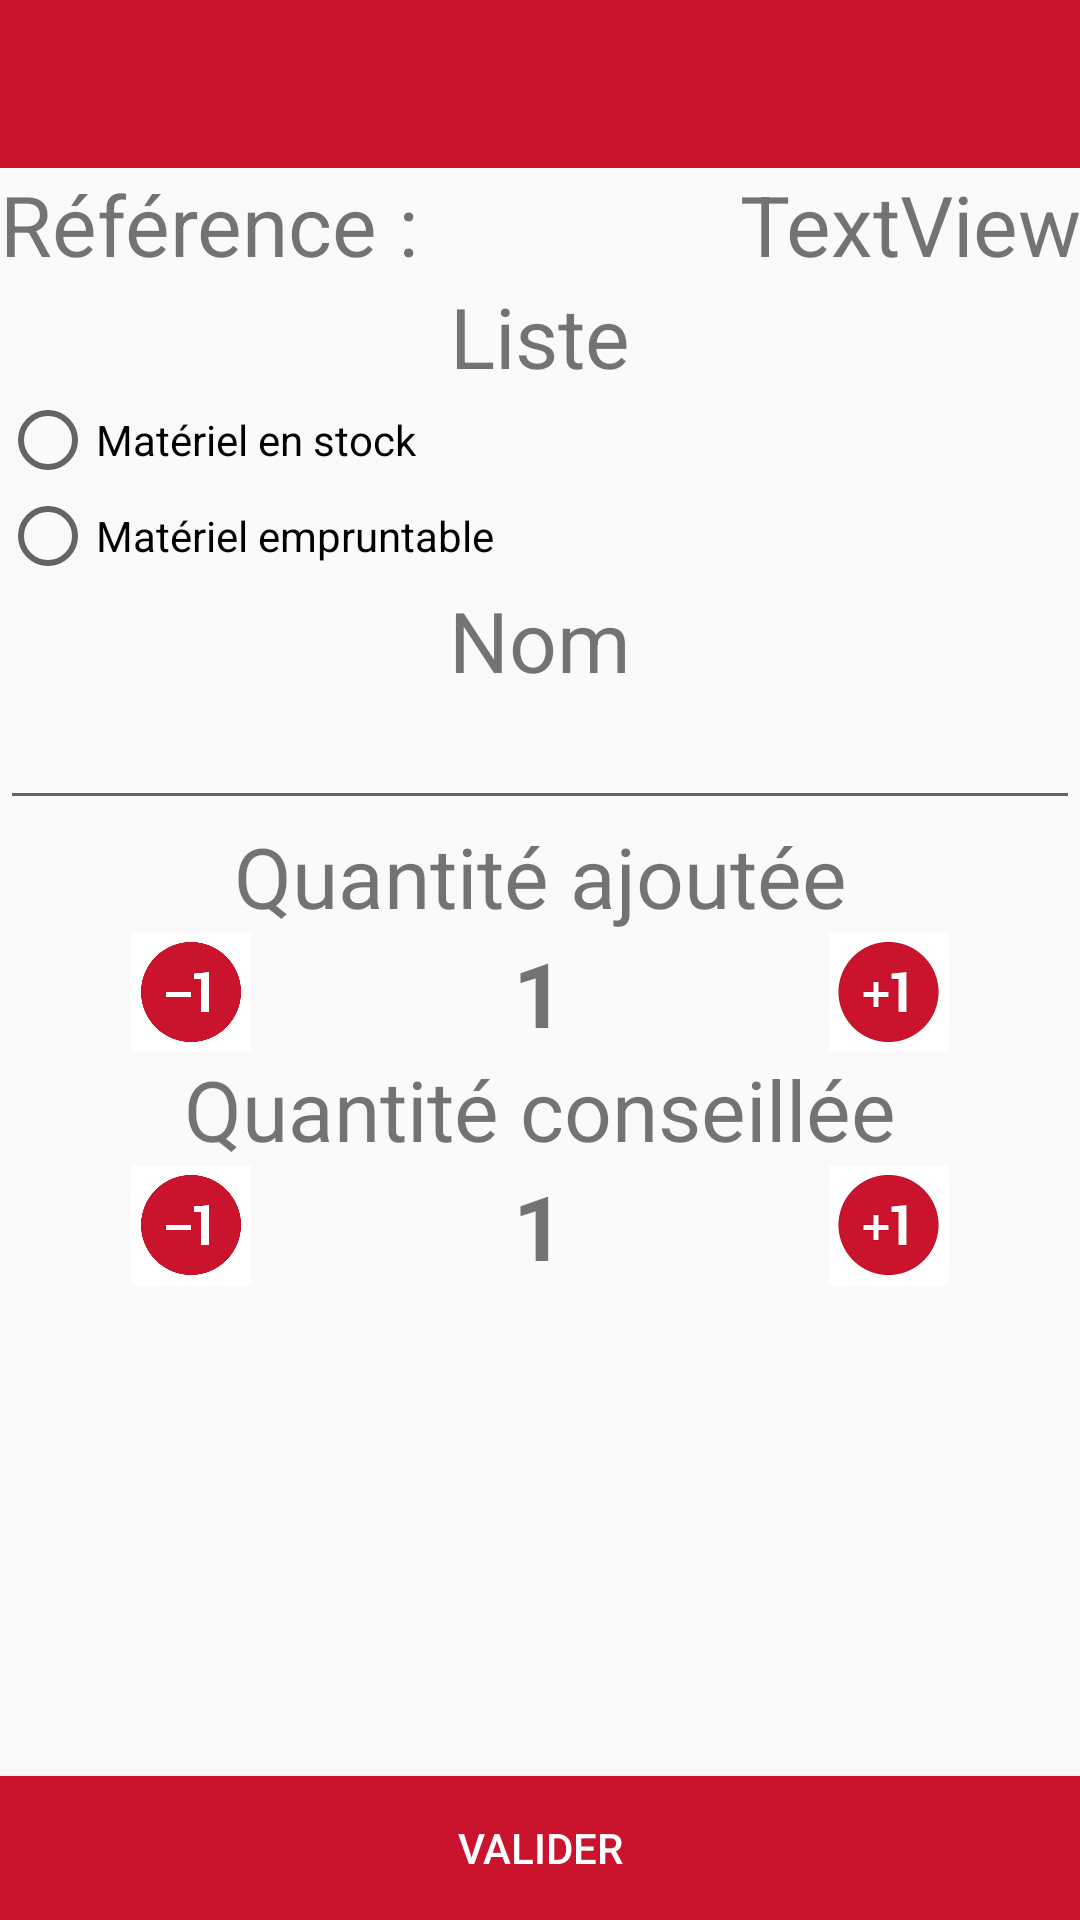

Screen size 1080×1920. Icon name, then its center in pixels as [x,y]:
ajouter: [888,992], [888,1225]
retirer: [191,992], [191,1225]
